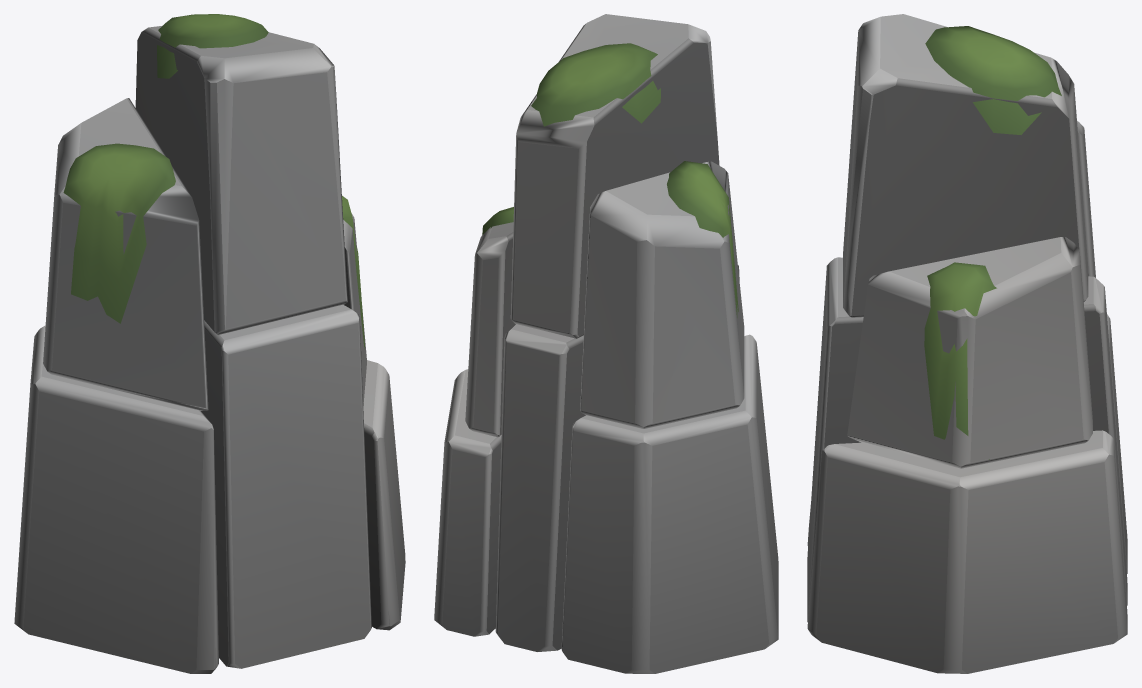
File: rock_crag.glb
3 views of the same model, side by side, from view 1: azimuth 30°, elevation 25°; view 2: azimuth 150°, elevation 25°; view 3: azimuth 270°, elevation 25° (orthographic). The views are drawn at different scales.
Visible parts, largest first — view 1: rock_crag_LOD0; view 2: rock_crag_LOD0; view 3: rock_crag_LOD0.
Part boxes in pixels (x1,y1,x2,y2): rock_crag_LOD0: [14, 14, 405, 673]; rock_crag_LOD0: [434, 14, 778, 673]; rock_crag_LOD0: [807, 14, 1127, 673].
Size of what is drawn, in the model's own units: 0.9317 by 1.42 by 0.74.
